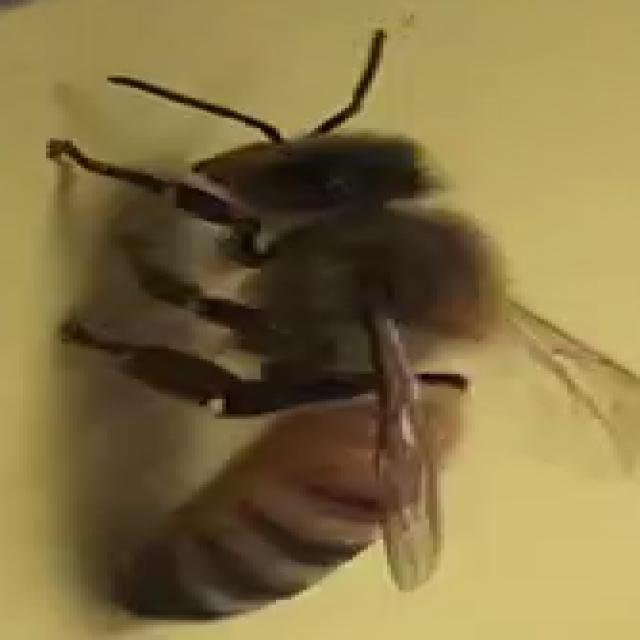honeybee: (46, 42, 560, 614)
